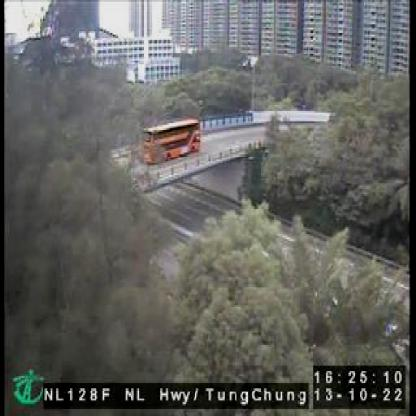Bus: (142, 118, 199, 166)
